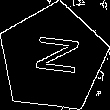N_W: (25, 35, 80, 82)
